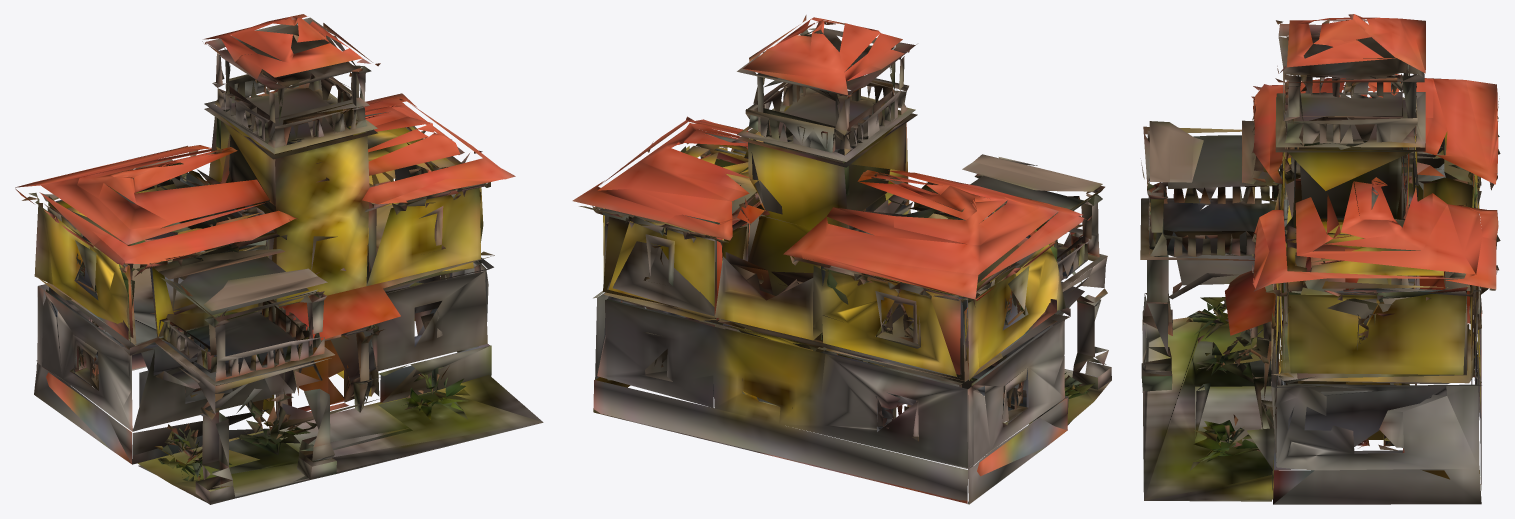
Rendered from Mediterranean_Villa_town.glb.
3 views of the same model, side by side, from view 1: azimuth 30°, elevation 25°; view 2: azimuth 150°, elevation 25°; view 3: azimuth 270°, elevation 25° (orthographic). The views are drawn at different scales.
Parts seen in each view (by area): view 1: Mediterranean_Villa; view 2: Mediterranean_Villa; view 3: Mediterranean_Villa.
Part boxes in pixels (x1,y1,x2,y2): Mediterranean_Villa: [15, 14, 543, 504]; Mediterranean_Villa: [572, 15, 1111, 504]; Mediterranean_Villa: [1140, 14, 1500, 504].
Bounding box in the file's own units: 1.9 × 1.75 × 1.41.
Materials: 1 (1 with a texture image).
